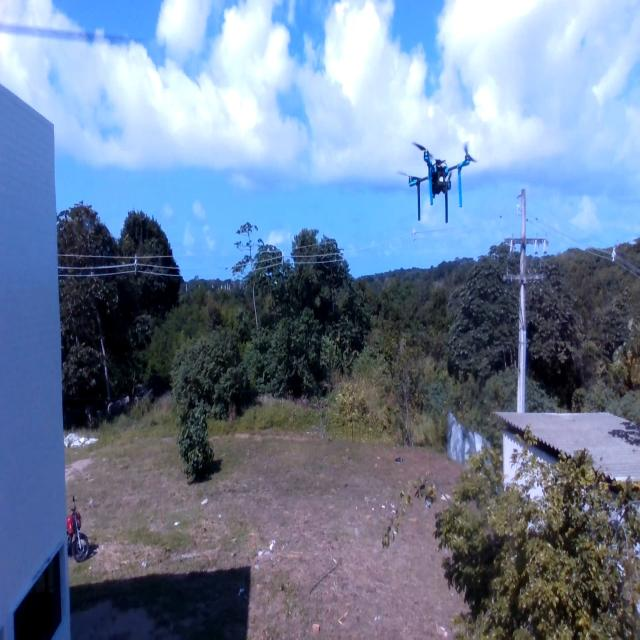-uav-: (394, 125, 481, 226)
